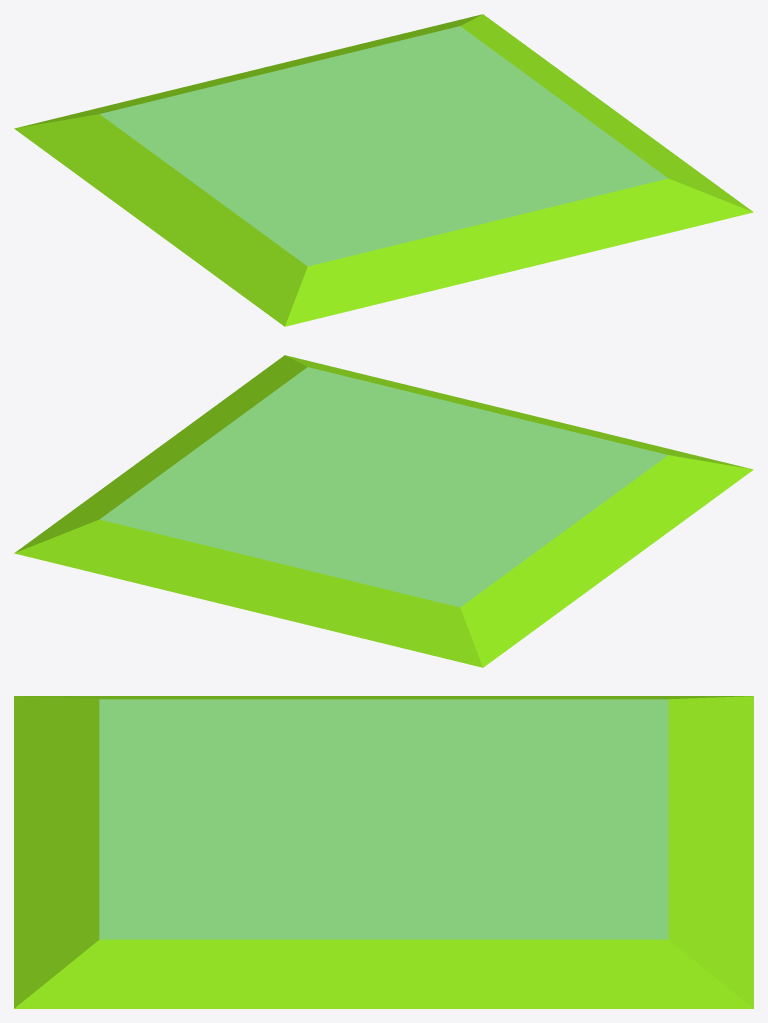
The model's file is tile1.fbx.
The picture shows the model from 3 angles, top to bottom: view 1: azimuth 30°, elevation 25°; view 2: azimuth 150°, elevation 25°; view 3: azimuth 270°, elevation 25°; orthographic projection. The views are drawn at different scales.
Visible parts, largest first — view 1: Cube; view 2: Cube; view 3: Cube.
Part boxes in pixels (<box>): Cube: <box>14,14,753,326</box>; Cube: <box>14,355,753,667</box>; Cube: <box>14,696,753,1008</box>.
Bounding box in the file's own units: 200 × 9.85 × 200.
